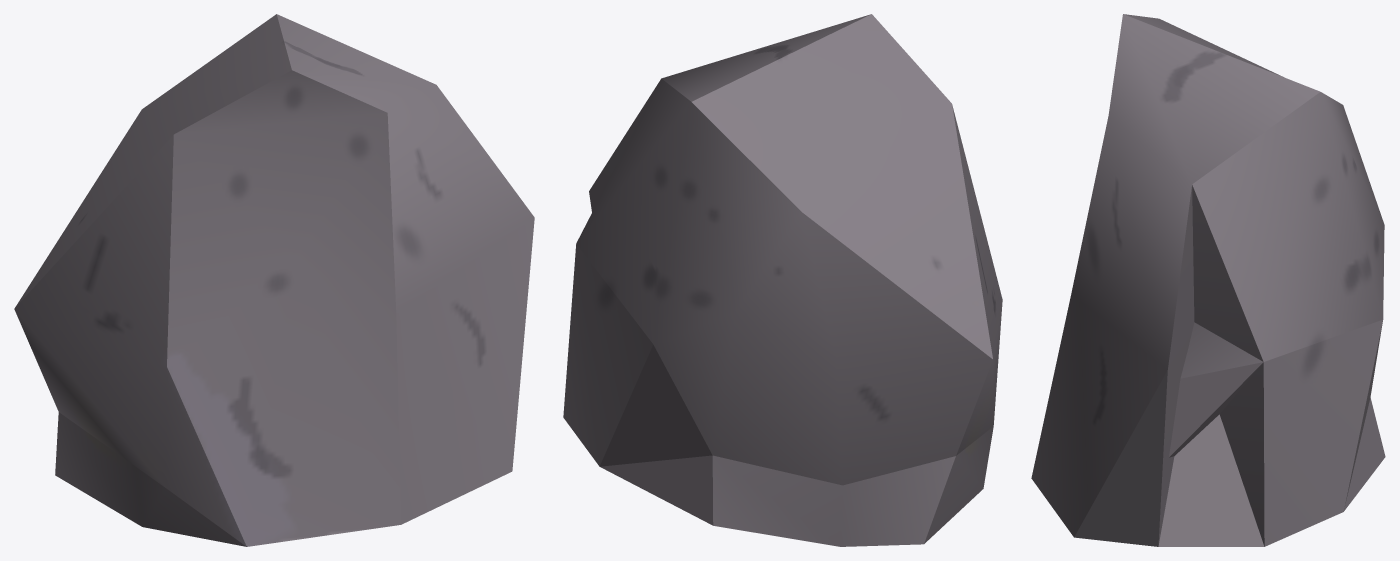
The model's file is PedraP.fbx.
The picture shows the model from 3 angles, left to right: view 1: azimuth 30°, elevation 25°; view 2: azimuth 150°, elevation 25°; view 3: azimuth 270°, elevation 25°; orthographic projection.
Parts seen in each view (by area): view 1: Minerio_Ouro; view 2: Minerio_Ouro; view 3: Minerio_Ouro.
Part boxes in pixels (box(x1,y1,x2,y2)): Minerio_Ouro: box(14, 14, 534, 546); Minerio_Ouro: box(563, 14, 1002, 546); Minerio_Ouro: box(1031, 14, 1385, 546).
Bounding box in the file's own units: 294 × 267 × 195.
